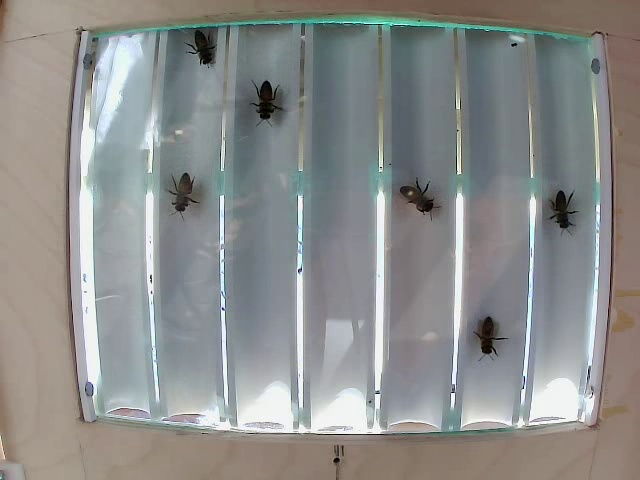bee: (244, 76, 287, 133), (533, 186, 577, 233), (169, 163, 204, 219), (471, 309, 509, 358), (390, 173, 435, 214), (187, 21, 227, 60)
